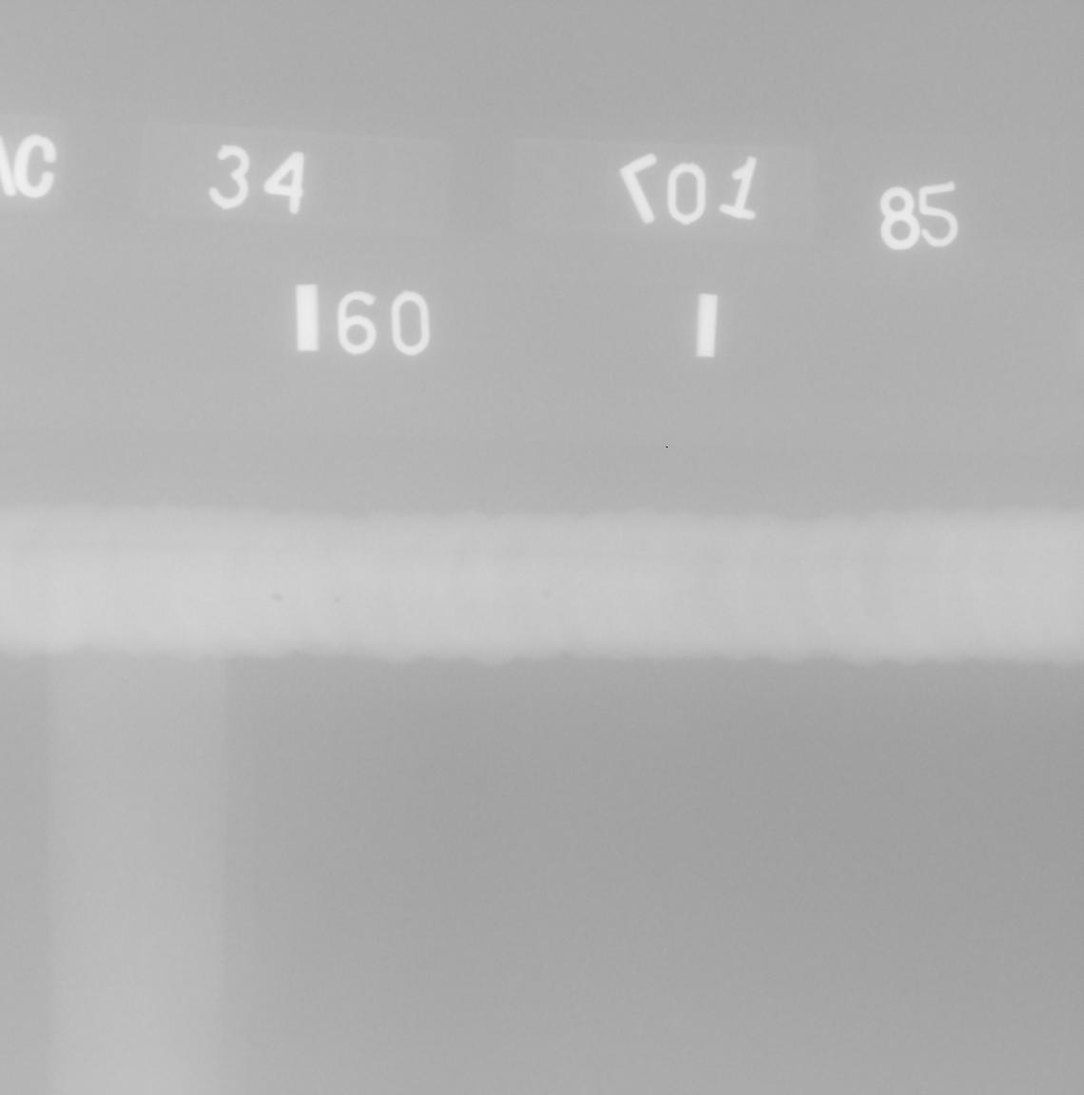Pore/Porosity: (702, 553, 723, 564), (272, 592, 288, 603), (333, 595, 345, 603), (541, 590, 552, 598), (900, 587, 910, 595), (863, 609, 869, 614)
